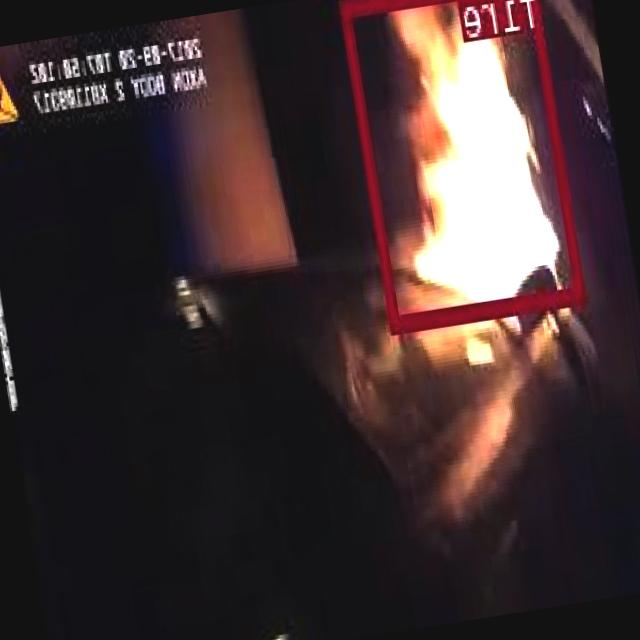fire: (342, 0, 588, 330)
